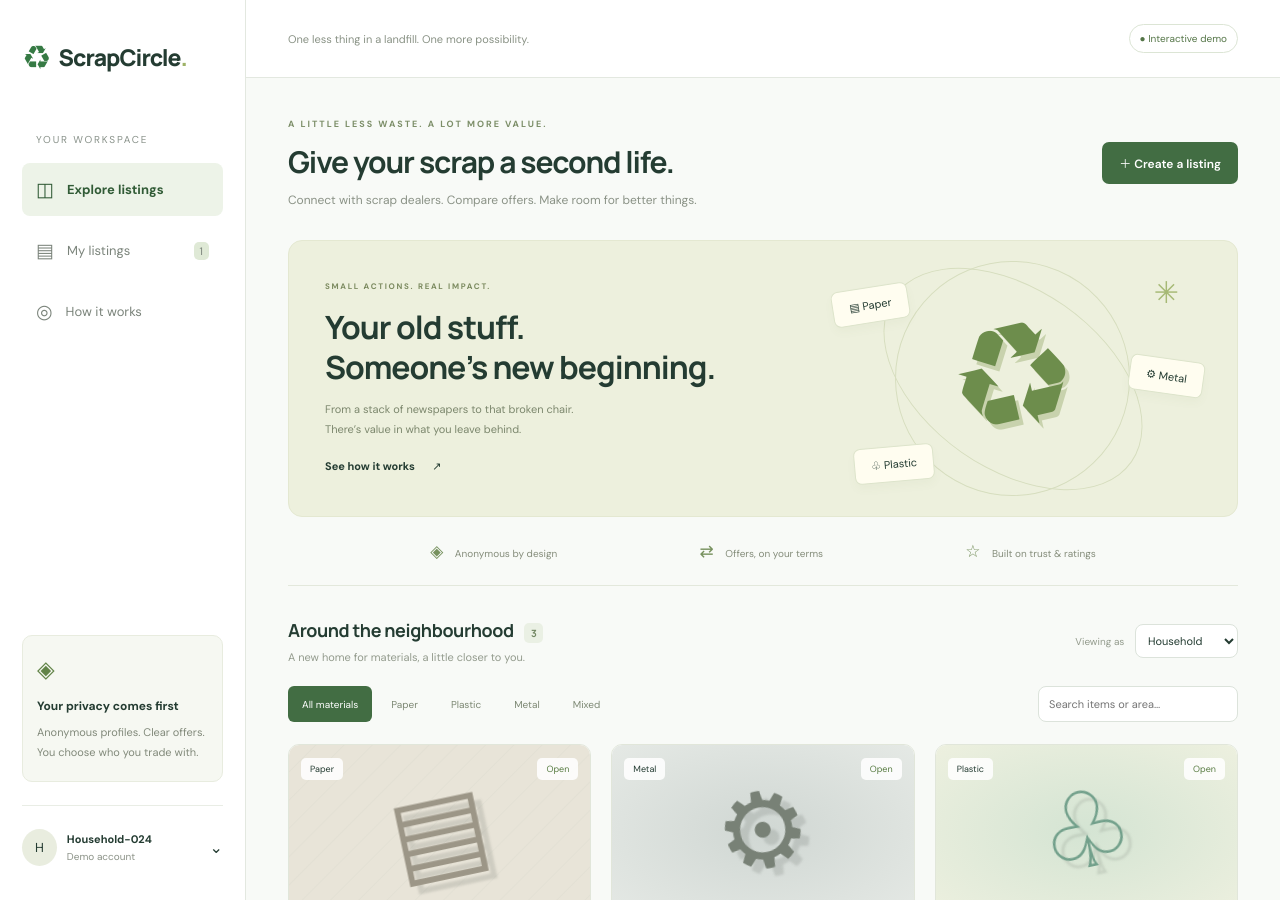
Test: marketplace demo › filters listings by material and search
The image size is (1280, 900).
Click the button "Metal" at (527, 704), box [500, 686, 554, 722]
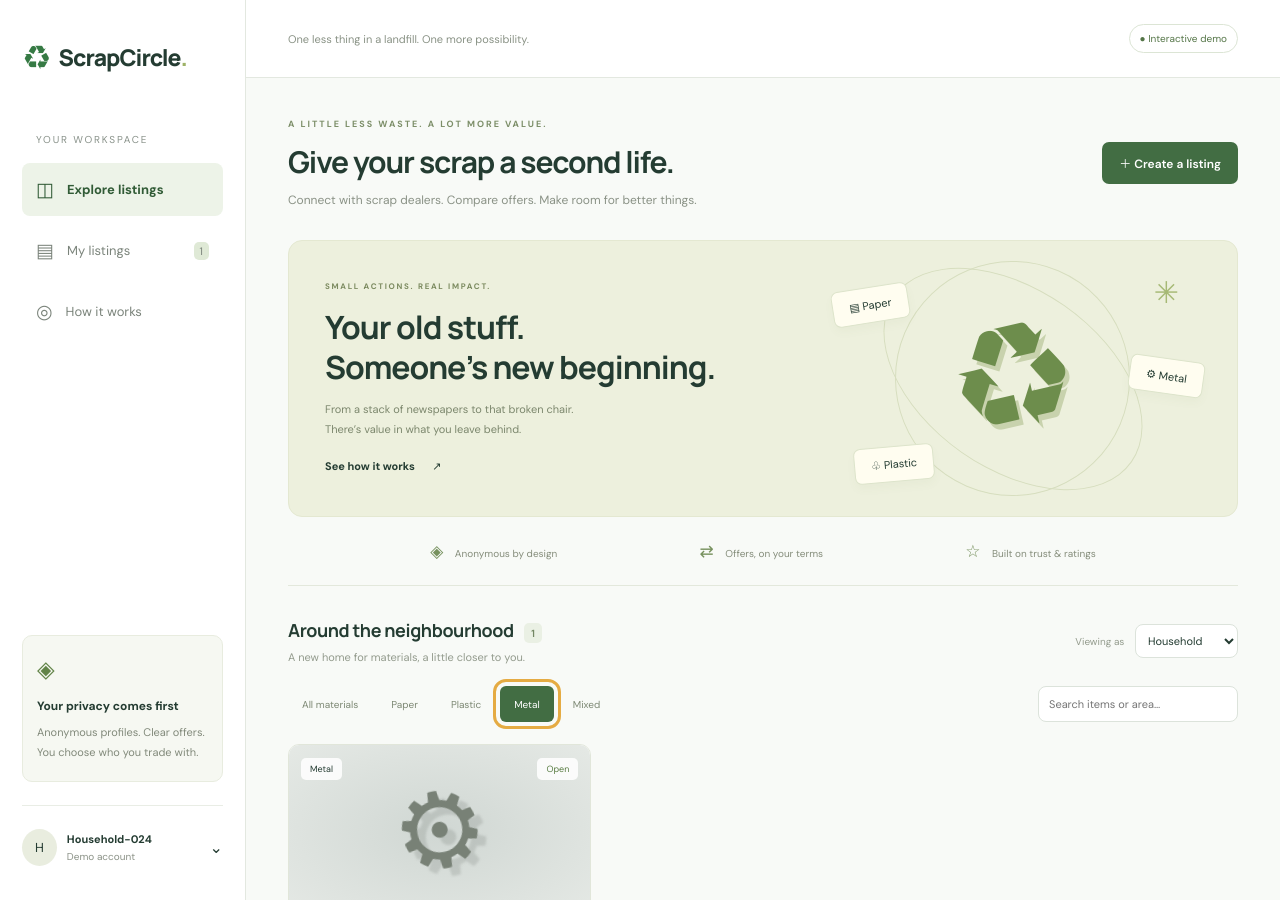
Type "no match" into the field named "Search listings" at (1138, 704), box [1038, 686, 1238, 722]
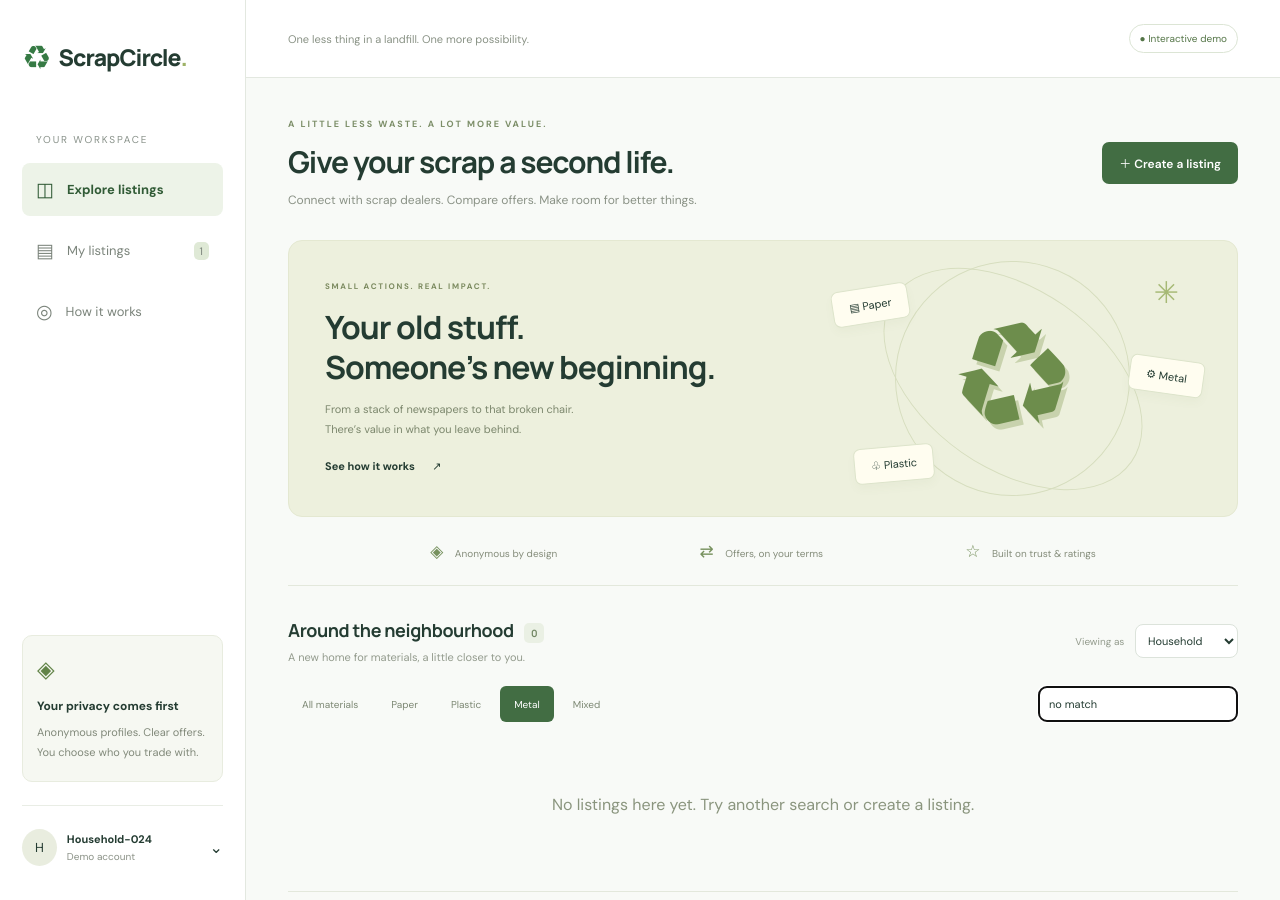
Now the text "No listings here yet" is shown, box [552, 794, 974, 815]
